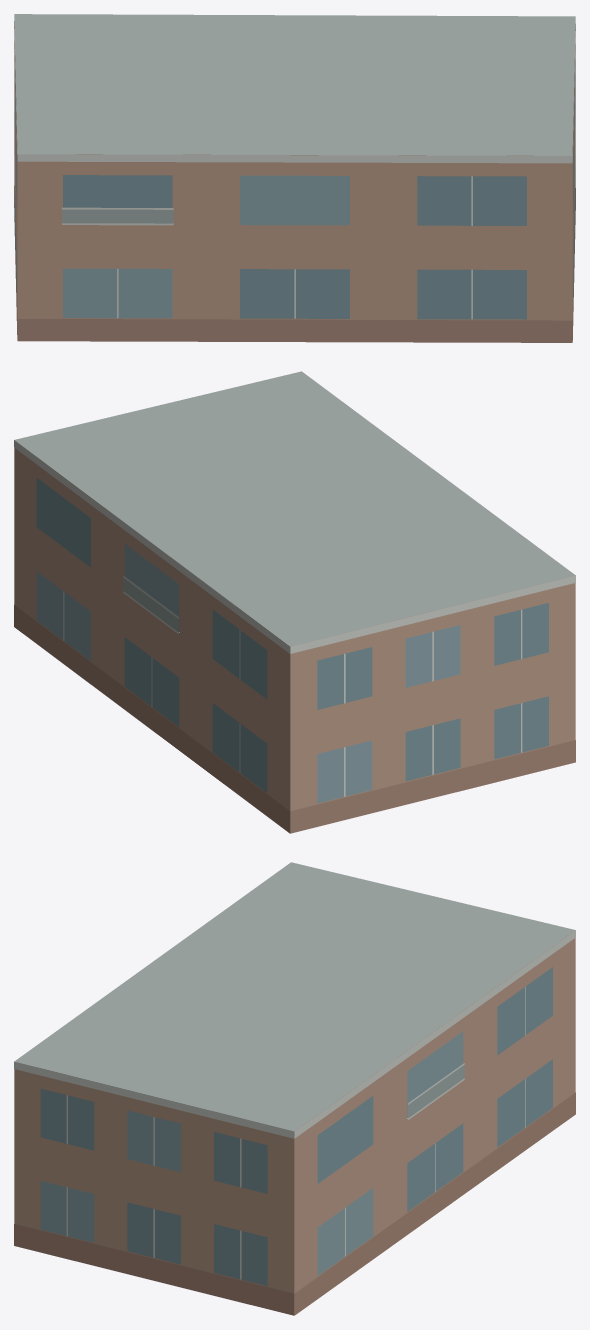
File: survey-upis-32946173.glb
3 views of the same model, one above another, from view 1: azimuth 30°, elevation 25°; view 2: azimuth 150°, elevation 25°; view 3: azimuth 270°, elevation 25° (orthographic).
Visible parts, largest first — view 1: survey-upis-32946173.tmp; view 2: survey-upis-32946173.tmp; view 3: survey-upis-32946173.tmp.
Boxes of the visible parts, x1,y1,x2,y2 form: survey-upis-32946173.tmp: (14,14,575,342); survey-upis-32946173.tmp: (14,371,575,833); survey-upis-32946173.tmp: (14,862,575,1315).
Bounding box in the file's own units: 19.13 × 6.1 × 16.86.
